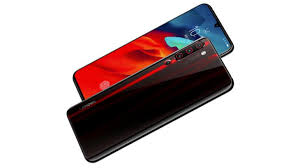lenovo: (59, 35, 234, 163)
